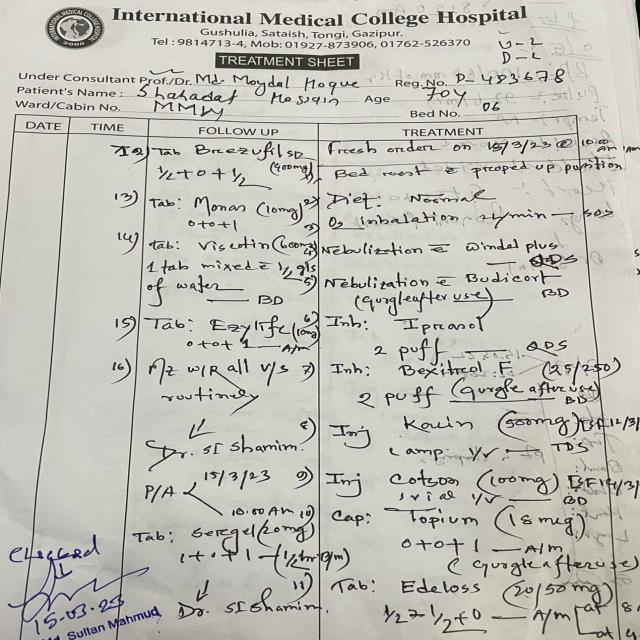Bexitrol F: (394, 360, 518, 379)
Brezofil: (185, 140, 309, 164)
Budicort: (459, 267, 555, 292)
Cotson: (383, 468, 464, 493)
Edeloss: (396, 574, 484, 601)
Ezylife: (206, 315, 290, 342)
Iprasol: (398, 314, 492, 338)
Karin: (390, 412, 479, 438)
Monas: (189, 191, 252, 217)
Nebulization: (320, 240, 427, 259)
O2 Inhalation: (324, 210, 465, 235)
Sergel: (185, 522, 265, 545)
Topium Rotacap: (392, 505, 484, 530)
Viscotin: (194, 234, 273, 256)
